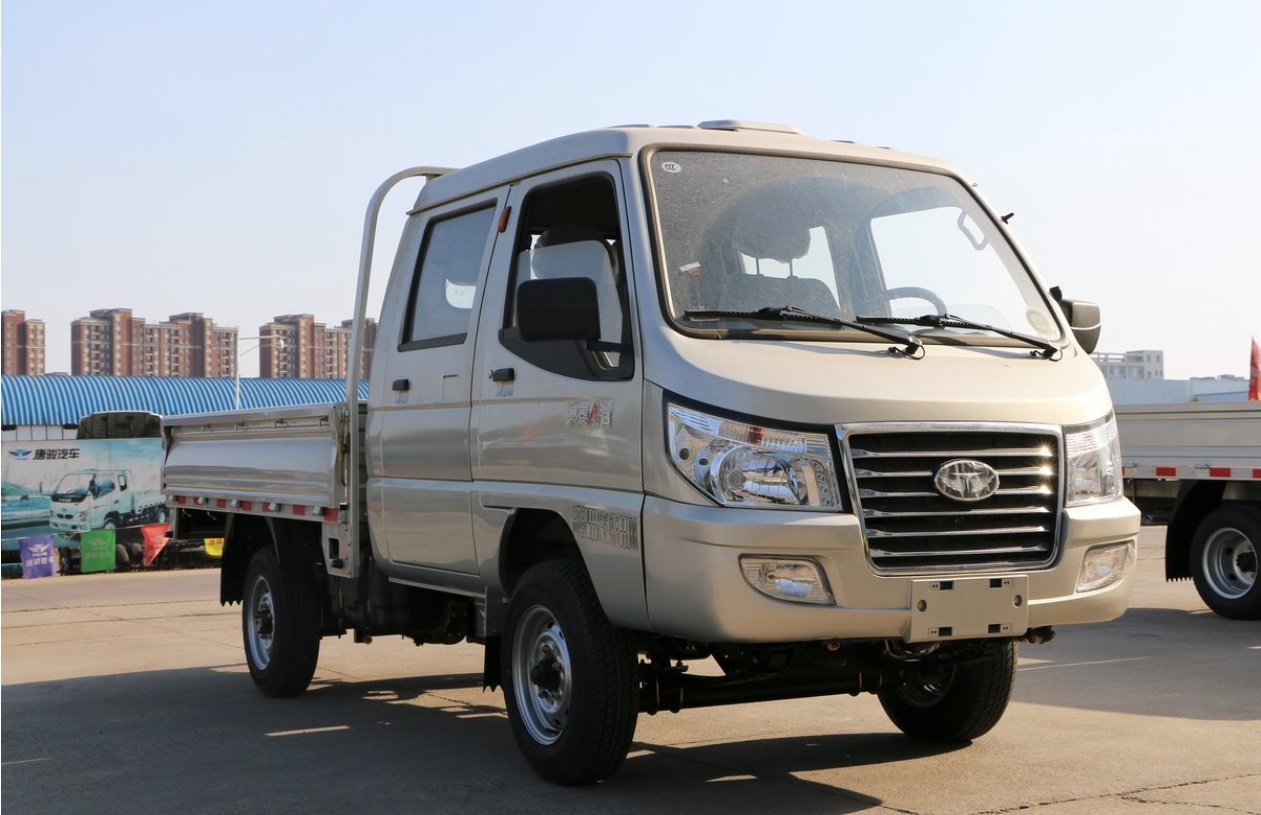truck: (159, 113, 1148, 792)
